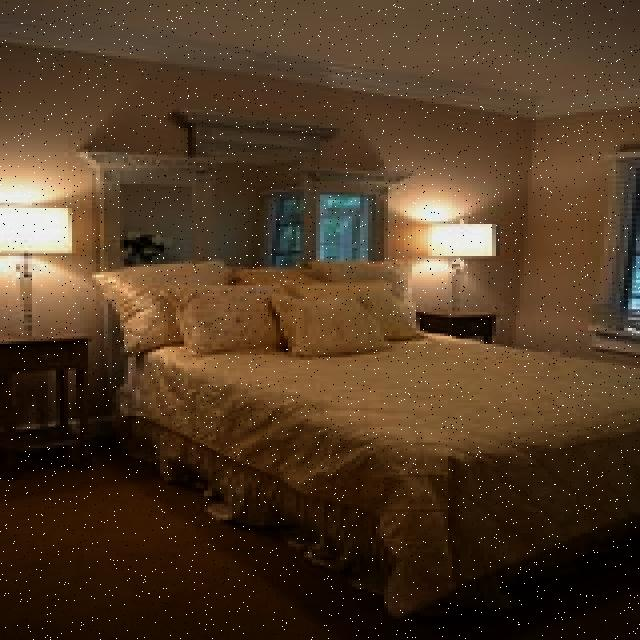bed: (101, 252, 640, 588)
